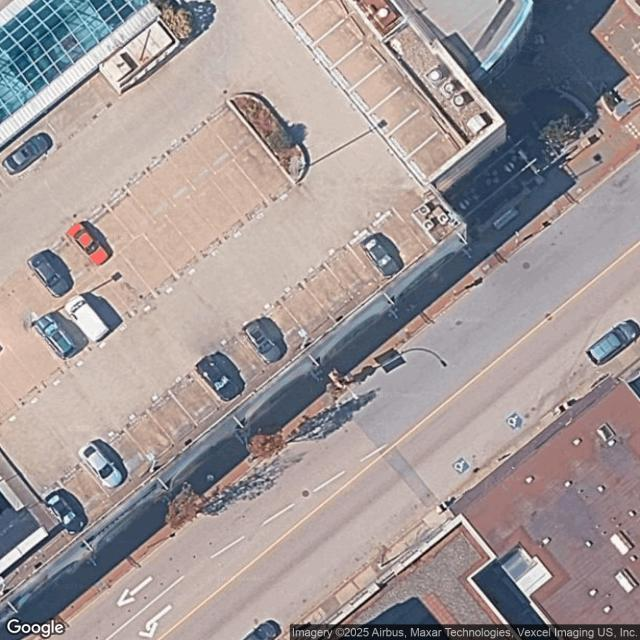car: (23, 245, 77, 301), (77, 437, 127, 495), (61, 291, 112, 347), (64, 217, 116, 271), (30, 310, 80, 365), (39, 484, 87, 541), (194, 352, 241, 409), (353, 229, 404, 281), (240, 316, 284, 368)
